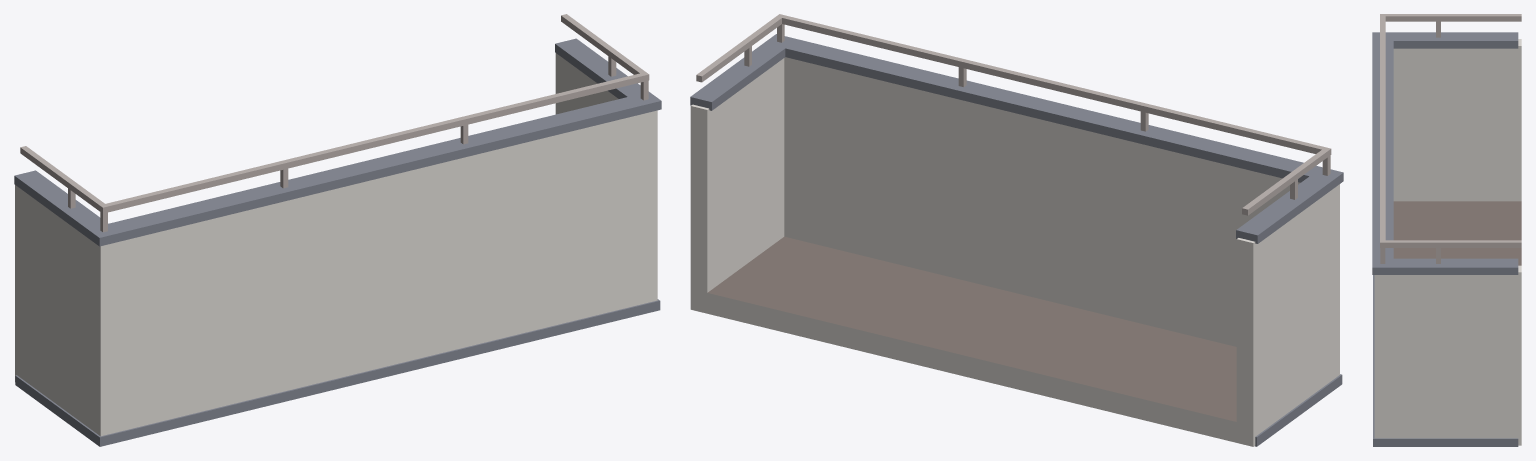
The model's file is SM_Fixture_BalconyShort25620_White_01.gltf.
3 views of the same model, side by side, from view 1: azimuth 30°, elevation 25°; view 2: azimuth 150°, elevation 25°; view 3: azimuth 270°, elevation 25° (orthographic). The views are drawn at different scales.
Visible parts, largest first — view 1: SM_Fixture_BalconyShort25620_White_01; view 2: SM_Fixture_BalconyShort25620_White_01; view 3: SM_Fixture_BalconyShort25620_White_01.
Boxes of the visible parts, box(x1,y1,x2,y2) form: SM_Fixture_BalconyShort25620_White_01: box(14, 14, 661, 446); SM_Fixture_BalconyShort25620_White_01: box(690, 14, 1343, 446); SM_Fixture_BalconyShort25620_White_01: box(1372, 14, 1521, 446).
Size of the model in its own units: 3.41 by 1.36 by 0.915.
Materials: 1 (1 with a texture image).
